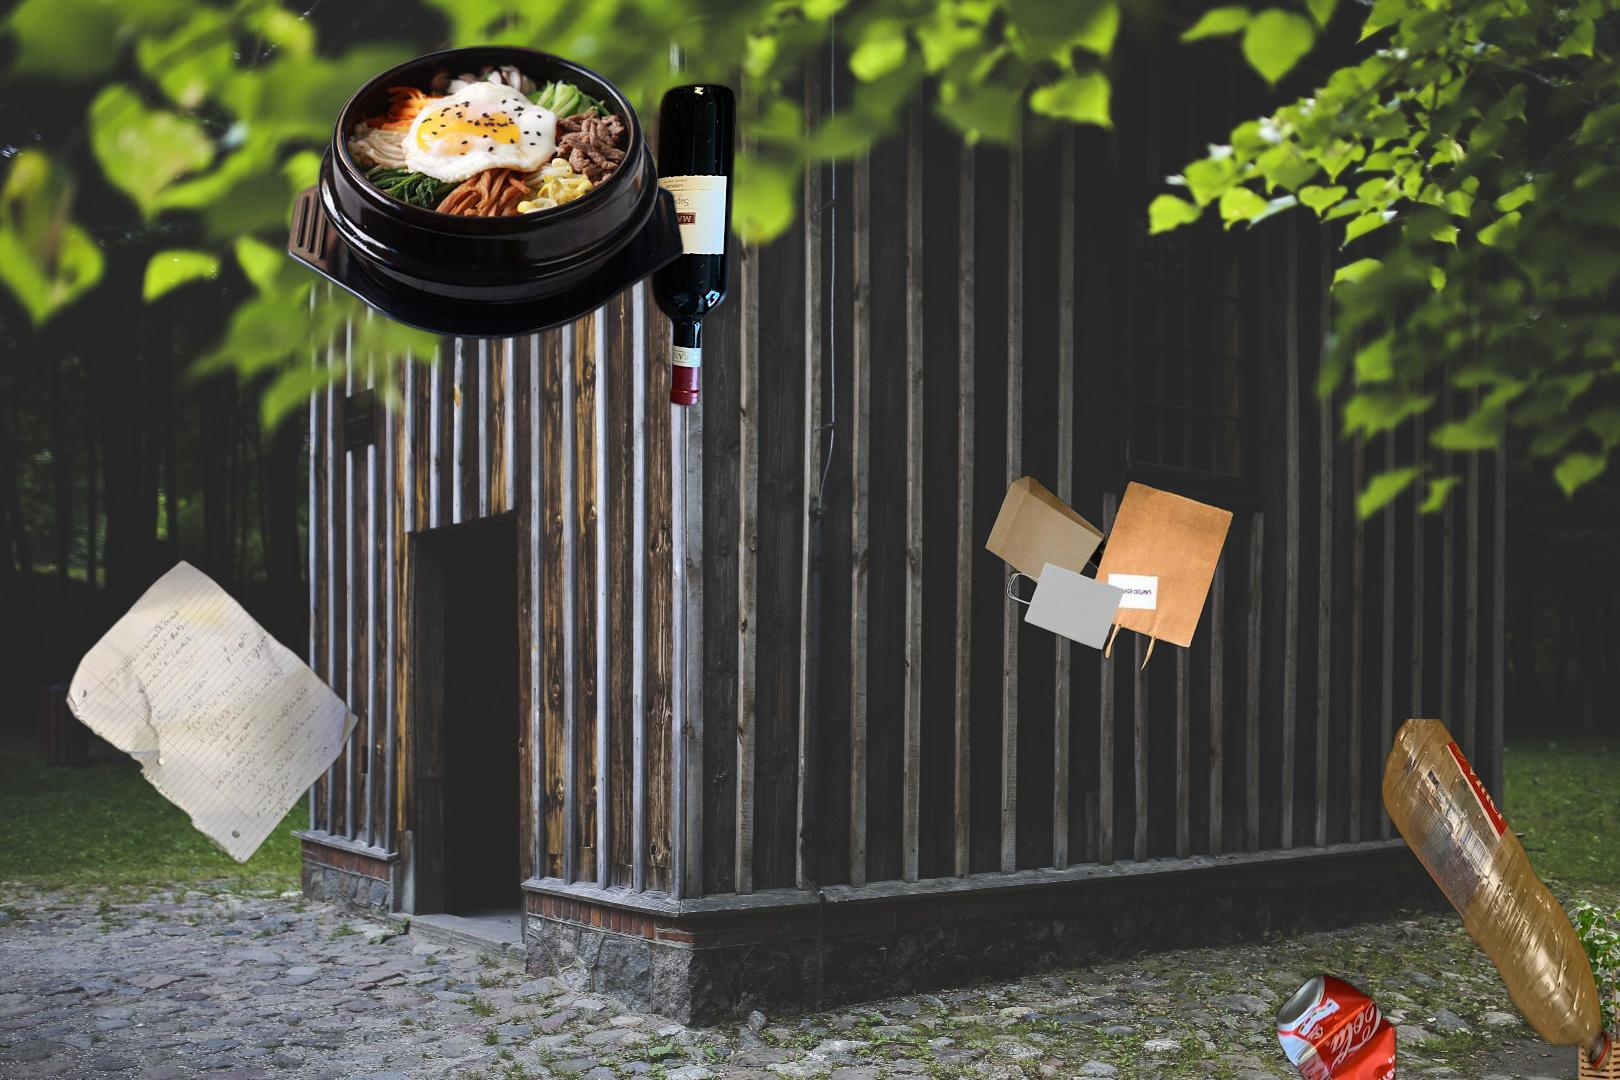biological: (281, 42, 689, 360)
glass: (235, 80, 741, 620)
metal-cans: (1270, 967, 1399, 1080)
paper: (61, 557, 363, 869), (1587, 262, 1620, 607)
paper-bag: (968, 421, 1237, 673)
plastic-bottles: (1380, 720, 1614, 1076)
trashbox-cardboard: (1548, 896, 1620, 1080)
